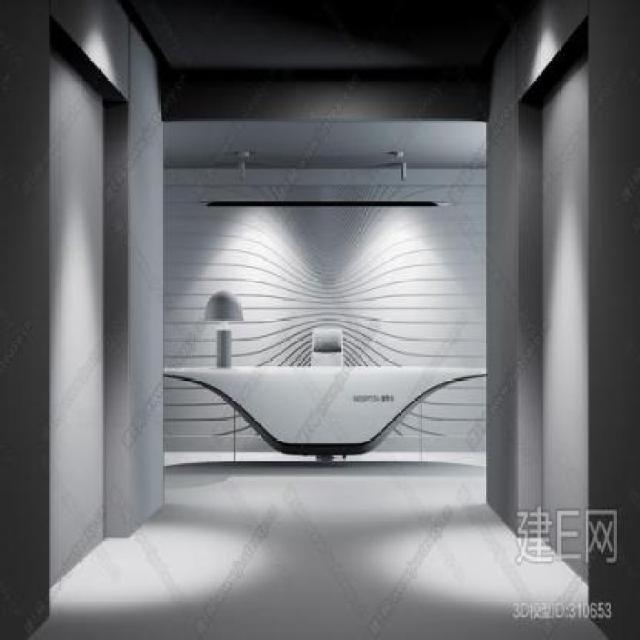frontdesk: (160, 336, 492, 478)
